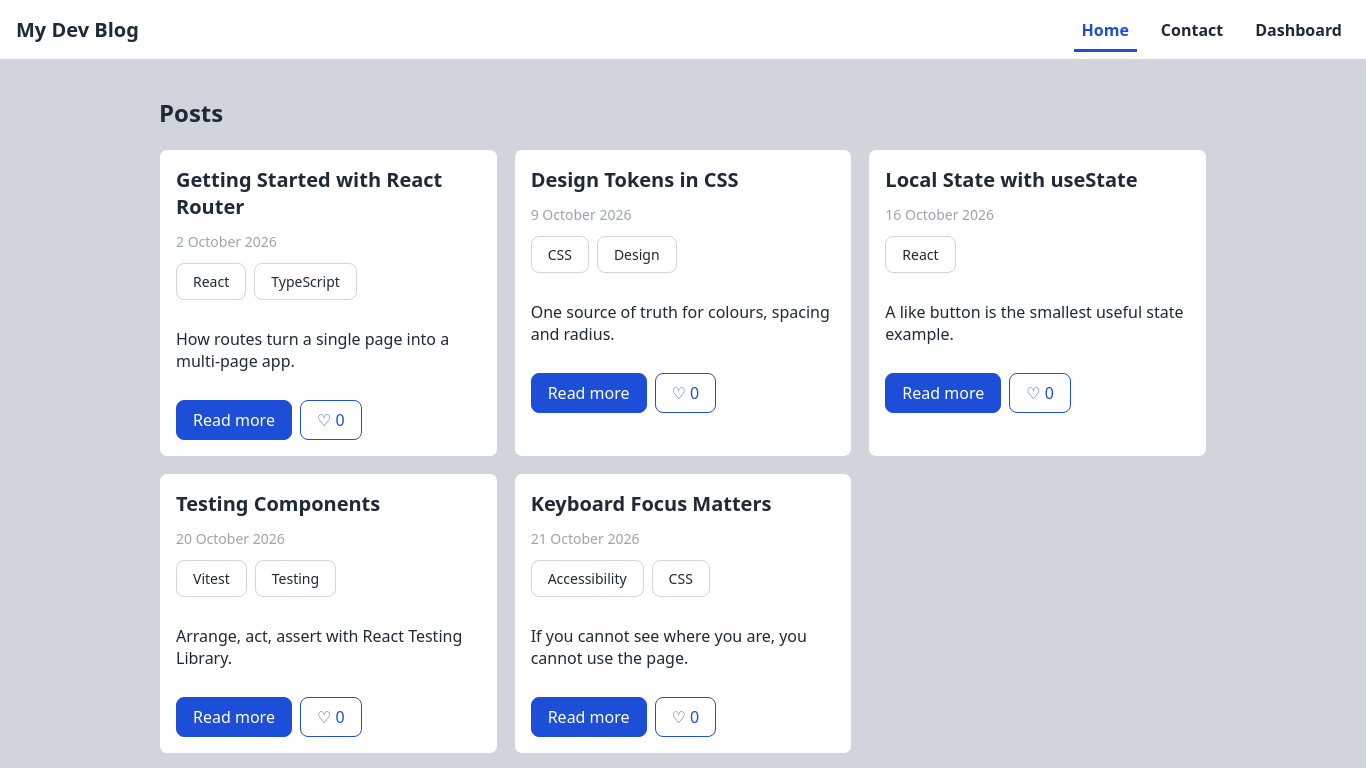
Test case: posts › keeps a separate like count for each post
Click the button named "like" at (331, 420), box x1=300 y1=400 x2=362 y2=440
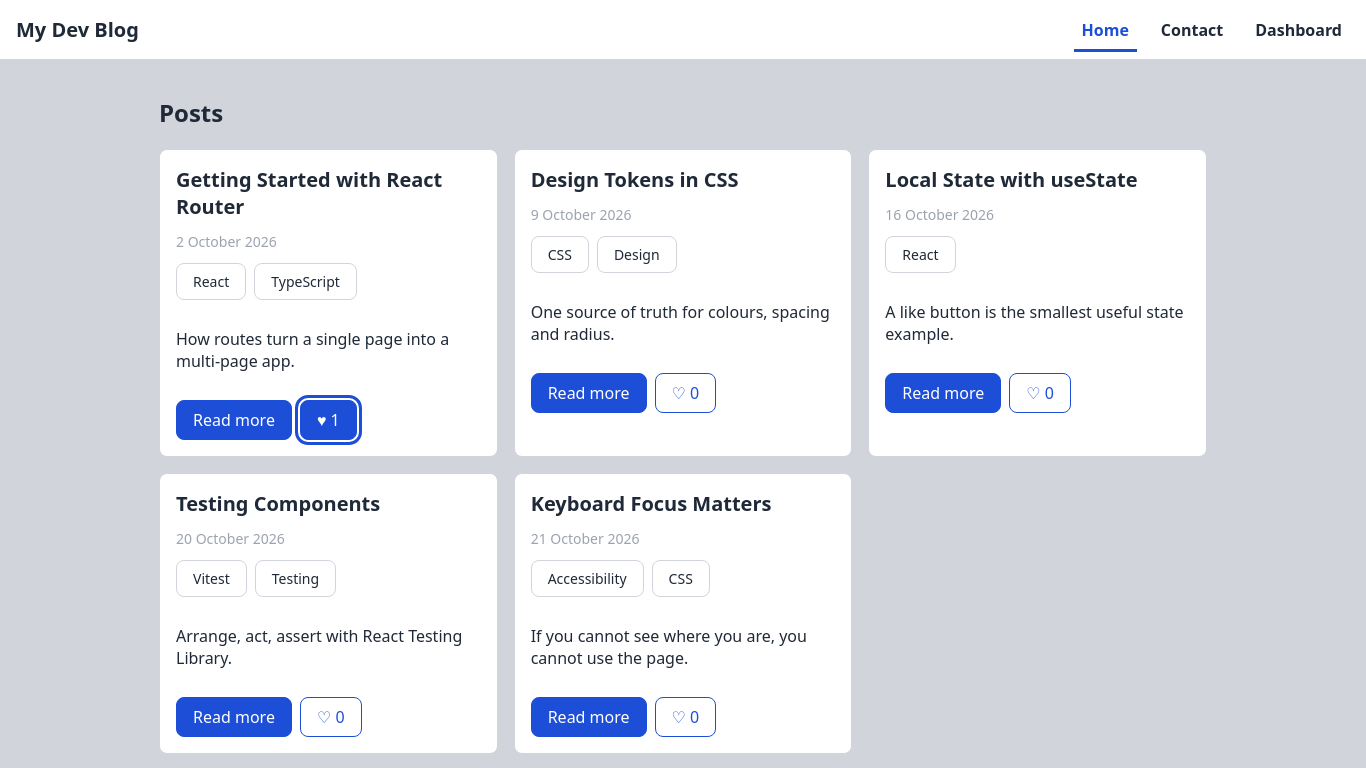
Expected: the button named "like" reads "♡ 0", x1=655 y1=373 x2=716 y2=413
Now the button named "like" reads "♥ 1", box x1=300 y1=400 x2=357 y2=440
